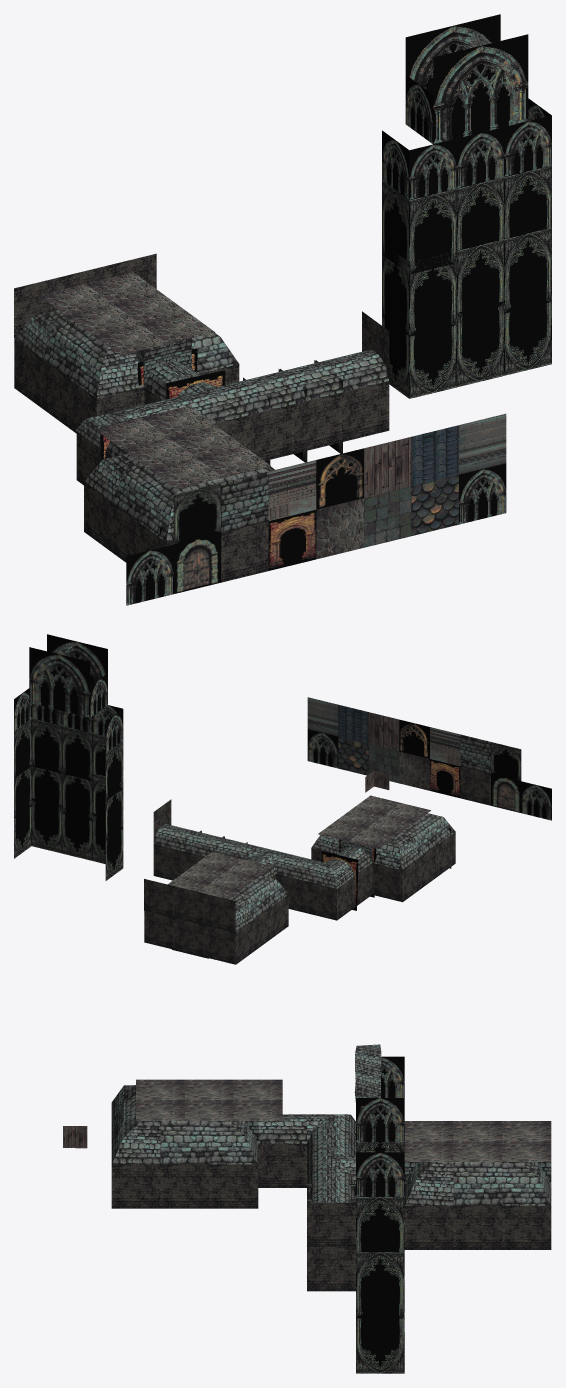
File: TexturedDungeon.glb
The picture shows the model from 3 angles, top to bottom: view 1: azimuth 30°, elevation 25°; view 2: azimuth 150°, elevation 25°; view 3: azimuth 270°, elevation 25°; orthographic projection. The views are drawn at different scales.
Visible parts, largest first — view 1: texture_parts; view 2: texture_parts; view 3: texture_parts.
Boxes of the visible parts, x1,y1,x2,y2 form: texture_parts: (14,14,551,605); texture_parts: (14,634,551,964); texture_parts: (63,1044,551,1373).
Bounding box in the file's own units: 26 × 14 × 22.03.
Materials: 28 (28 with a texture image).
